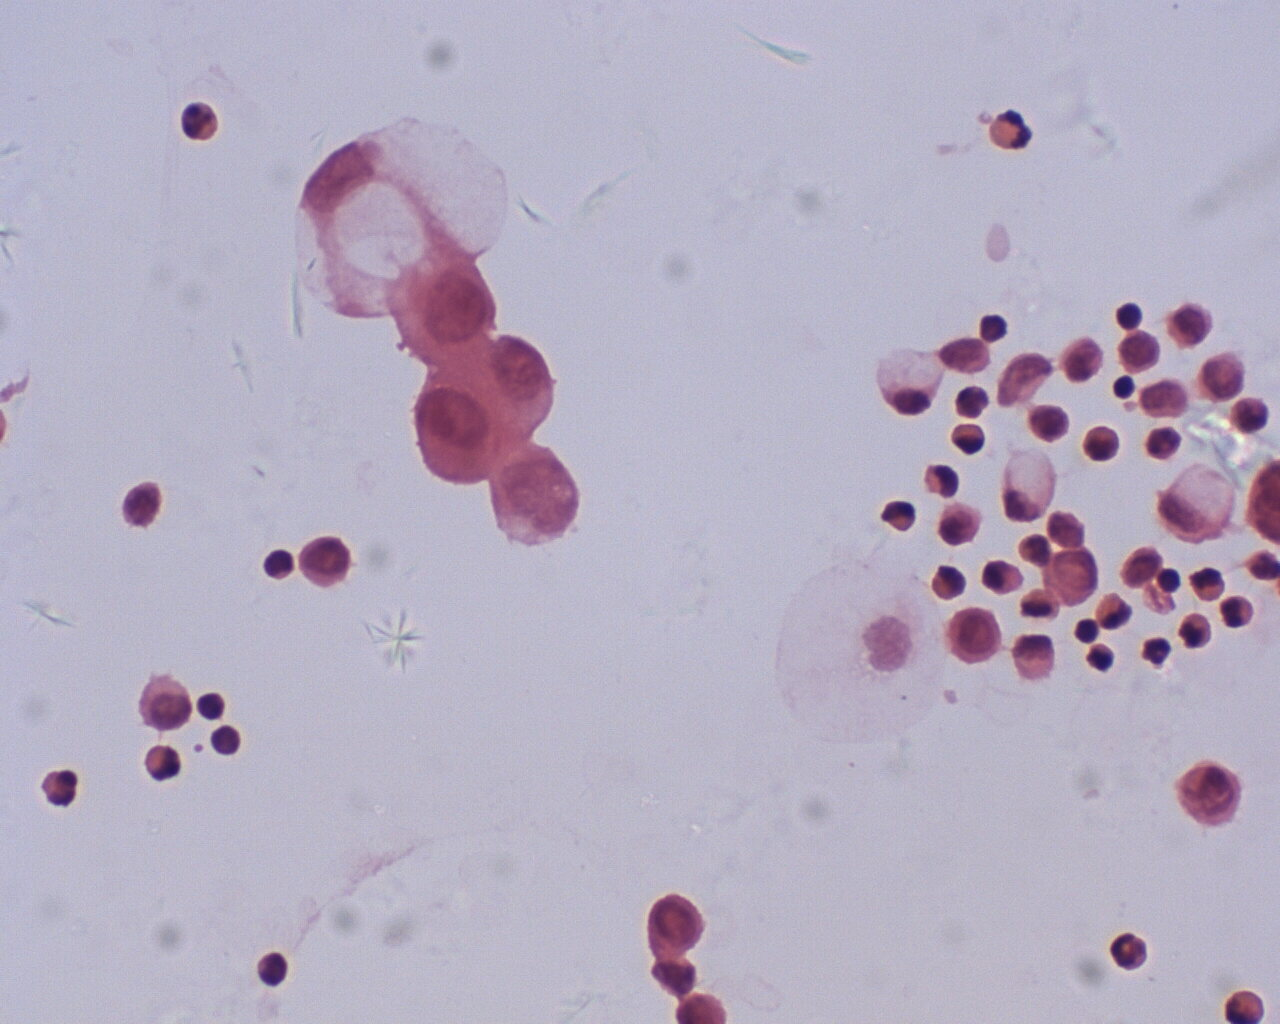ab: (394, 248, 501, 360), (412, 365, 506, 486), (489, 442, 579, 551), (646, 892, 705, 965), (298, 536, 354, 591)
histo: (282, 116, 510, 319)
lymph: (261, 545, 295, 581), (210, 727, 240, 758), (1114, 300, 1144, 329), (197, 691, 223, 719)
neutro: (984, 108, 1033, 156), (140, 743, 182, 782), (922, 460, 958, 503), (1092, 592, 1134, 629), (946, 420, 984, 456), (1190, 566, 1226, 603), (933, 564, 965, 600)
